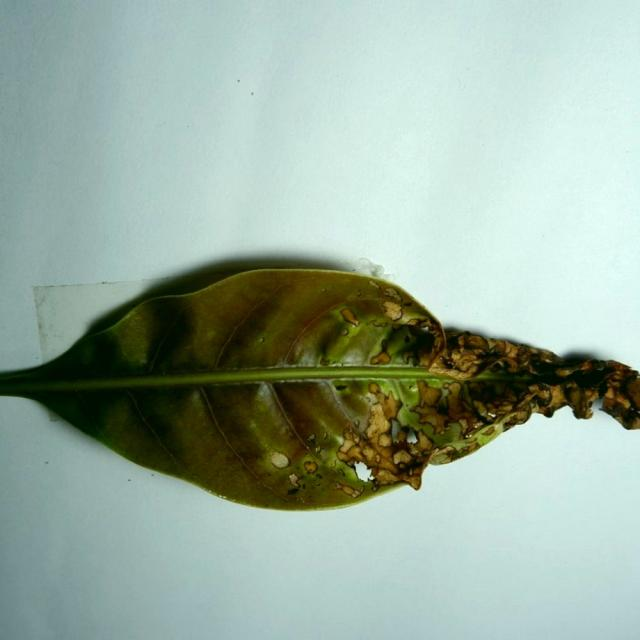Anthracnose: (330, 291, 404, 368), (341, 403, 399, 474), (409, 380, 473, 441), (471, 382, 540, 428), (596, 365, 639, 427), (426, 349, 486, 381), (485, 337, 536, 365), (562, 386, 595, 419), (334, 480, 360, 498), (381, 300, 402, 321), (339, 435, 359, 457), (381, 397, 398, 420)
Mango: (0, 259, 639, 514)
